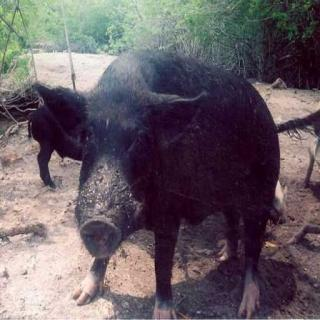Pig: (80, 34, 297, 308)
